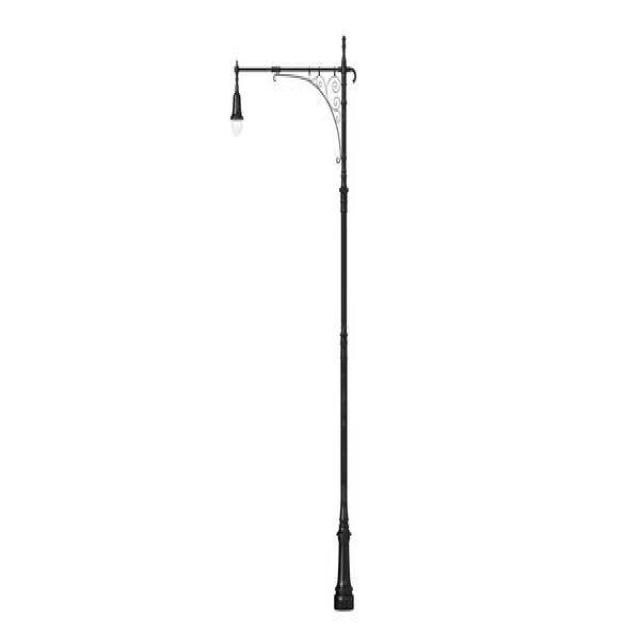Pole: (230, 34, 358, 611)
